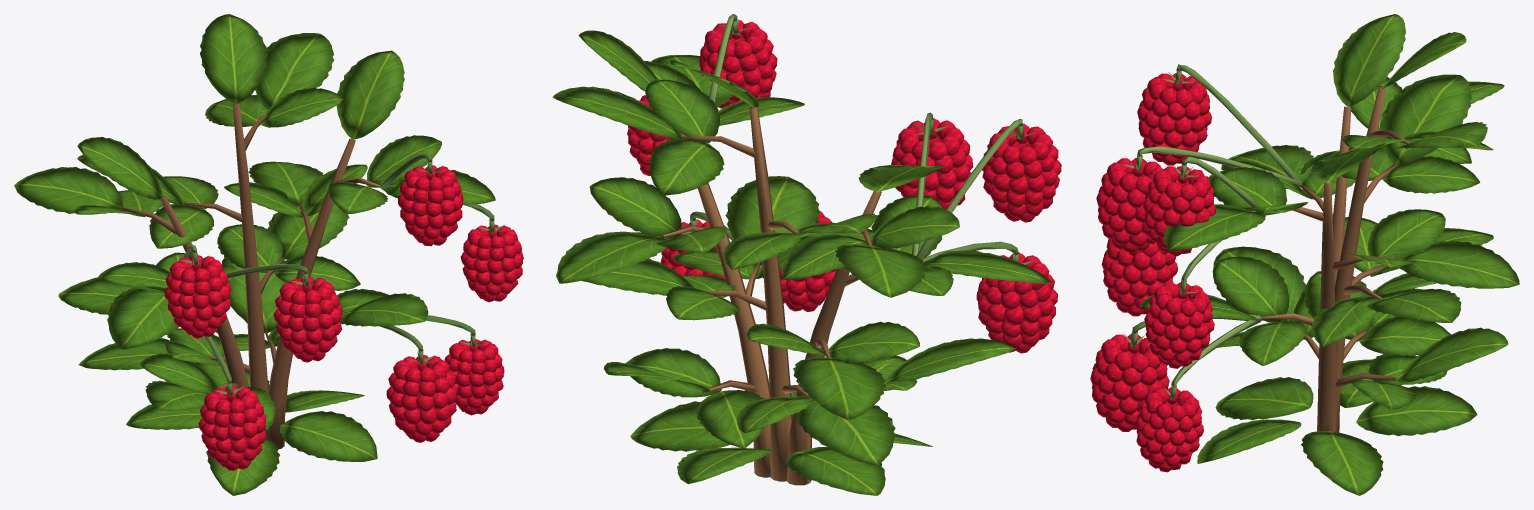
Rendered from NP_Raspberry_Ready.fbx.
The picture shows the model from 3 angles, left to right: view 1: azimuth 30°, elevation 25°; view 2: azimuth 150°, elevation 25°; view 3: azimuth 270°, elevation 25°; orthographic projection. The views are drawn at different scales.
Parts seen in each view (by area): view 1: NP_Raspberry_Ready; view 2: NP_Raspberry_Ready; view 3: NP_Raspberry_Ready.
Part boxes in pixels (x1=…): NP_Raspberry_Ready: x1=14, y1=14, x2=523, y2=495; NP_Raspberry_Ready: x1=552, y1=14, x2=1061, y2=495; NP_Raspberry_Ready: x1=1090, y1=14, x2=1519, y2=495.
Bounding box in the file's own units: 97.64 × 95 × 86.57.
